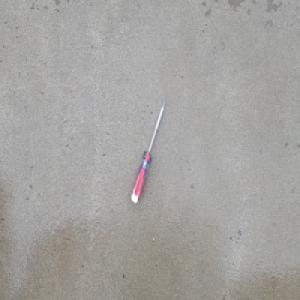Screwdriver: (129, 100, 165, 205)
